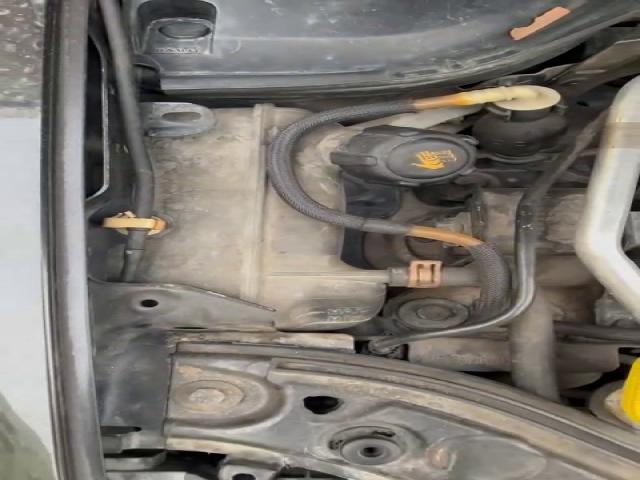antifreeze_tank: (139, 105, 389, 330), (294, 124, 477, 210)
